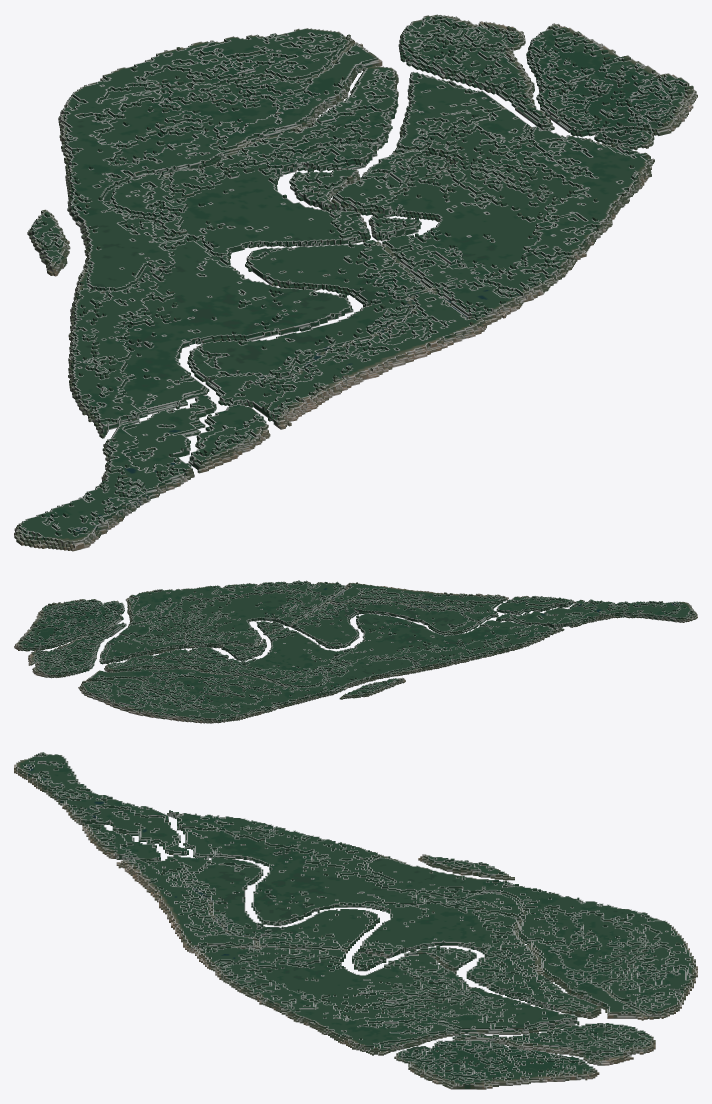
The model's file is FuroKidney.fbx.
3 views of the same model, one above another, from view 1: azimuth 30°, elevation 25°; view 2: azimuth 150°, elevation 25°; view 3: azimuth 270°, elevation 25° (orthographic). The views are drawn at different scales.
Visible parts, largest first — view 1: FuroKidney; view 2: FuroKidney; view 3: FuroKidney.
Part boxes in pixels (<box>): FuroKidney: <box>14,14,697,551</box>; FuroKidney: <box>14,580,697,723</box>; FuroKidney: <box>14,752,697,1089</box>.
Bounding box in the file's own units: 39.2 × 0.4 × 34.
Materials: 1 (1 with a texture image).
